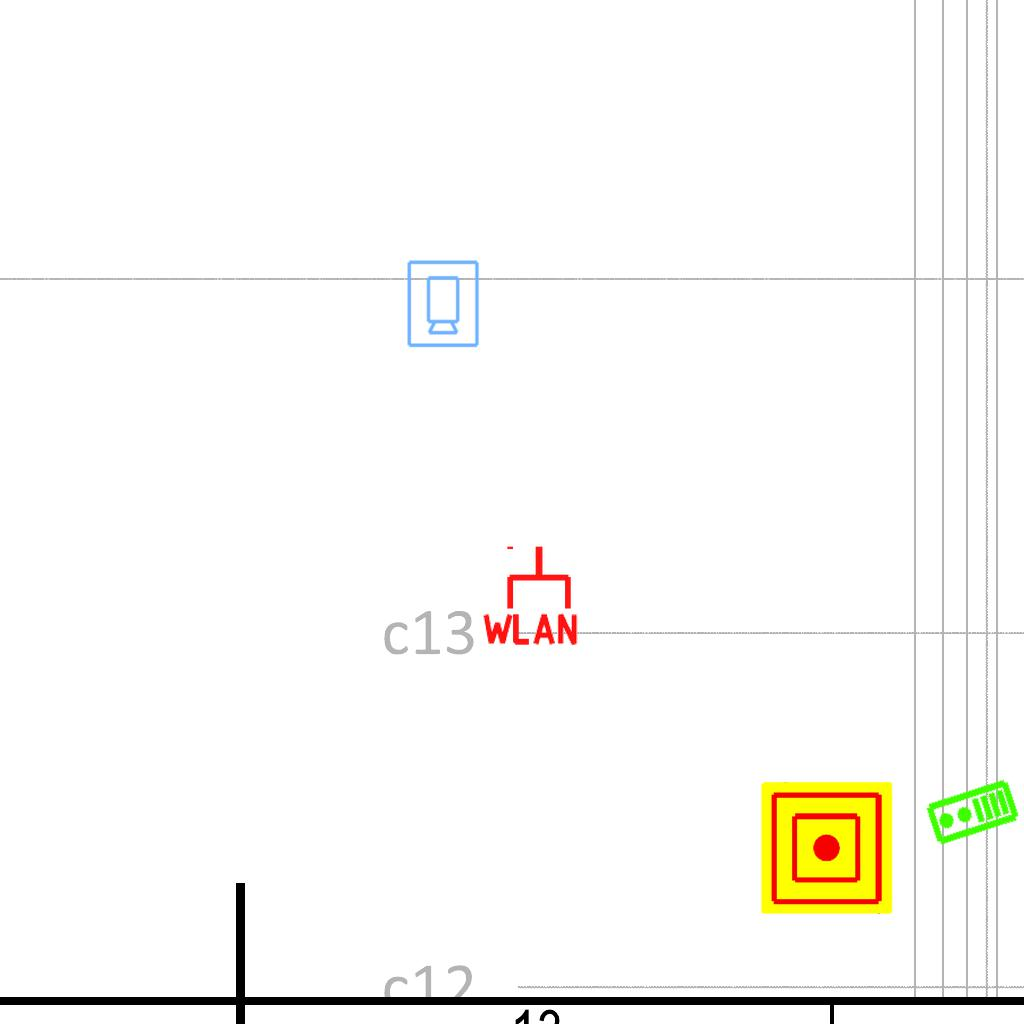Gegensprechanlage_mit_Video: (923, 777, 1022, 849)
KFO_Kamera_mit_Festobjektiv: (404, 258, 481, 349)
NAM-Nichtautomatischer_Melder: (761, 782, 893, 914)
WLAN: (478, 542, 582, 647)
